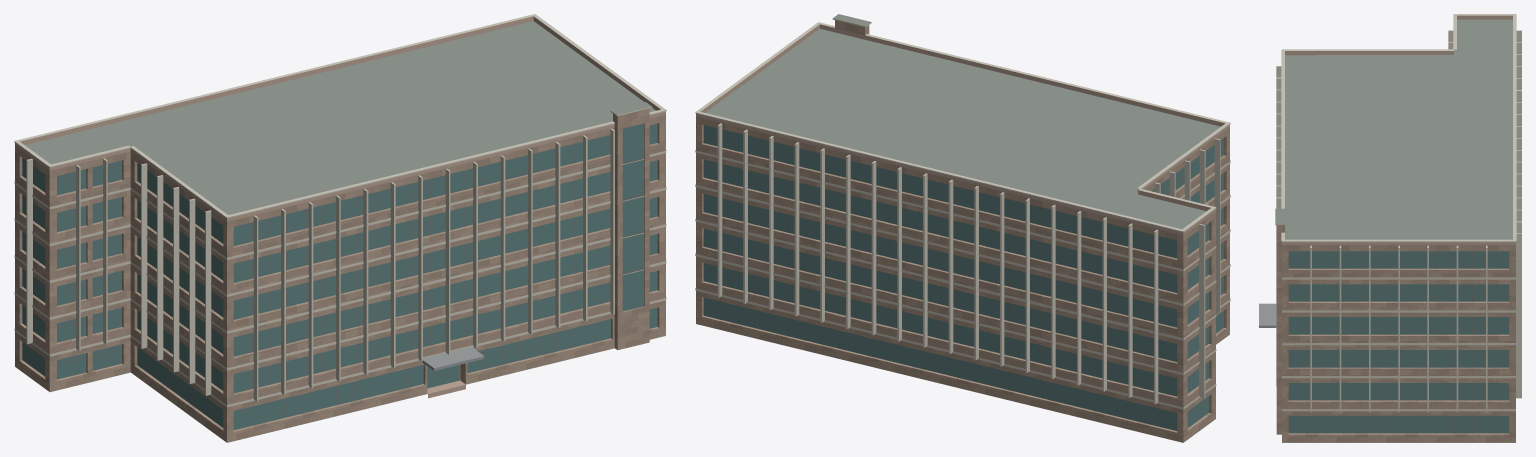
The picture shows the model from 3 angles, left to right: view 1: azimuth 30°, elevation 25°; view 2: azimuth 150°, elevation 25°; view 3: azimuth 270°, elevation 25°; orthographic projection. The views are drawn at different scales.
Visible parts, largest first — view 1: economics__wall, economics__glass, economics__roof, economics__trim, economics__parapet, economics__frame, economics__canopy; view 2: economics__glass, economics__wall, economics__roof, economics__trim, economics__parapet, economics__frame; view 3: economics__roof, economics__glass, economics__wall, economics__trim, economics__parapet, economics__frame, economics__canopy.
Boxes of the visible parts, x1,y1,x2,y2 form: economics__wall: (15,108,665,442); economics__glass: (22,123,657,430); economics__roof: (17,21,664,442); economics__trim: (14,14,666,407); economics__parapet: (15,16,665,221); economics__frame: (22,139,644,426); economics__canopy: (422,347,484,370); economics__glass: (703,125,1223,430); economics__wall: (696,20,1229,442); economics__roof: (696,14,1228,442); economics__trim: (695,18,1230,409); economics__parapet: (696,24,1229,235); economics__frame: (720,133,1213,427); economics__roof: (1275,19,1515,442); economics__glass: (1288,251,1509,433); economics__wall: (1276,225,1515,442); economics__trim: (1275,14,1521,412); economics__parapet: (1282,15,1515,245); economics__frame: (1306,251,1491,433); economics__canopy: (1259,303,1276,327).
Size of the model in its own units: 52.83 by 22.85 by 25.32.
9 materials, 1 textured.
